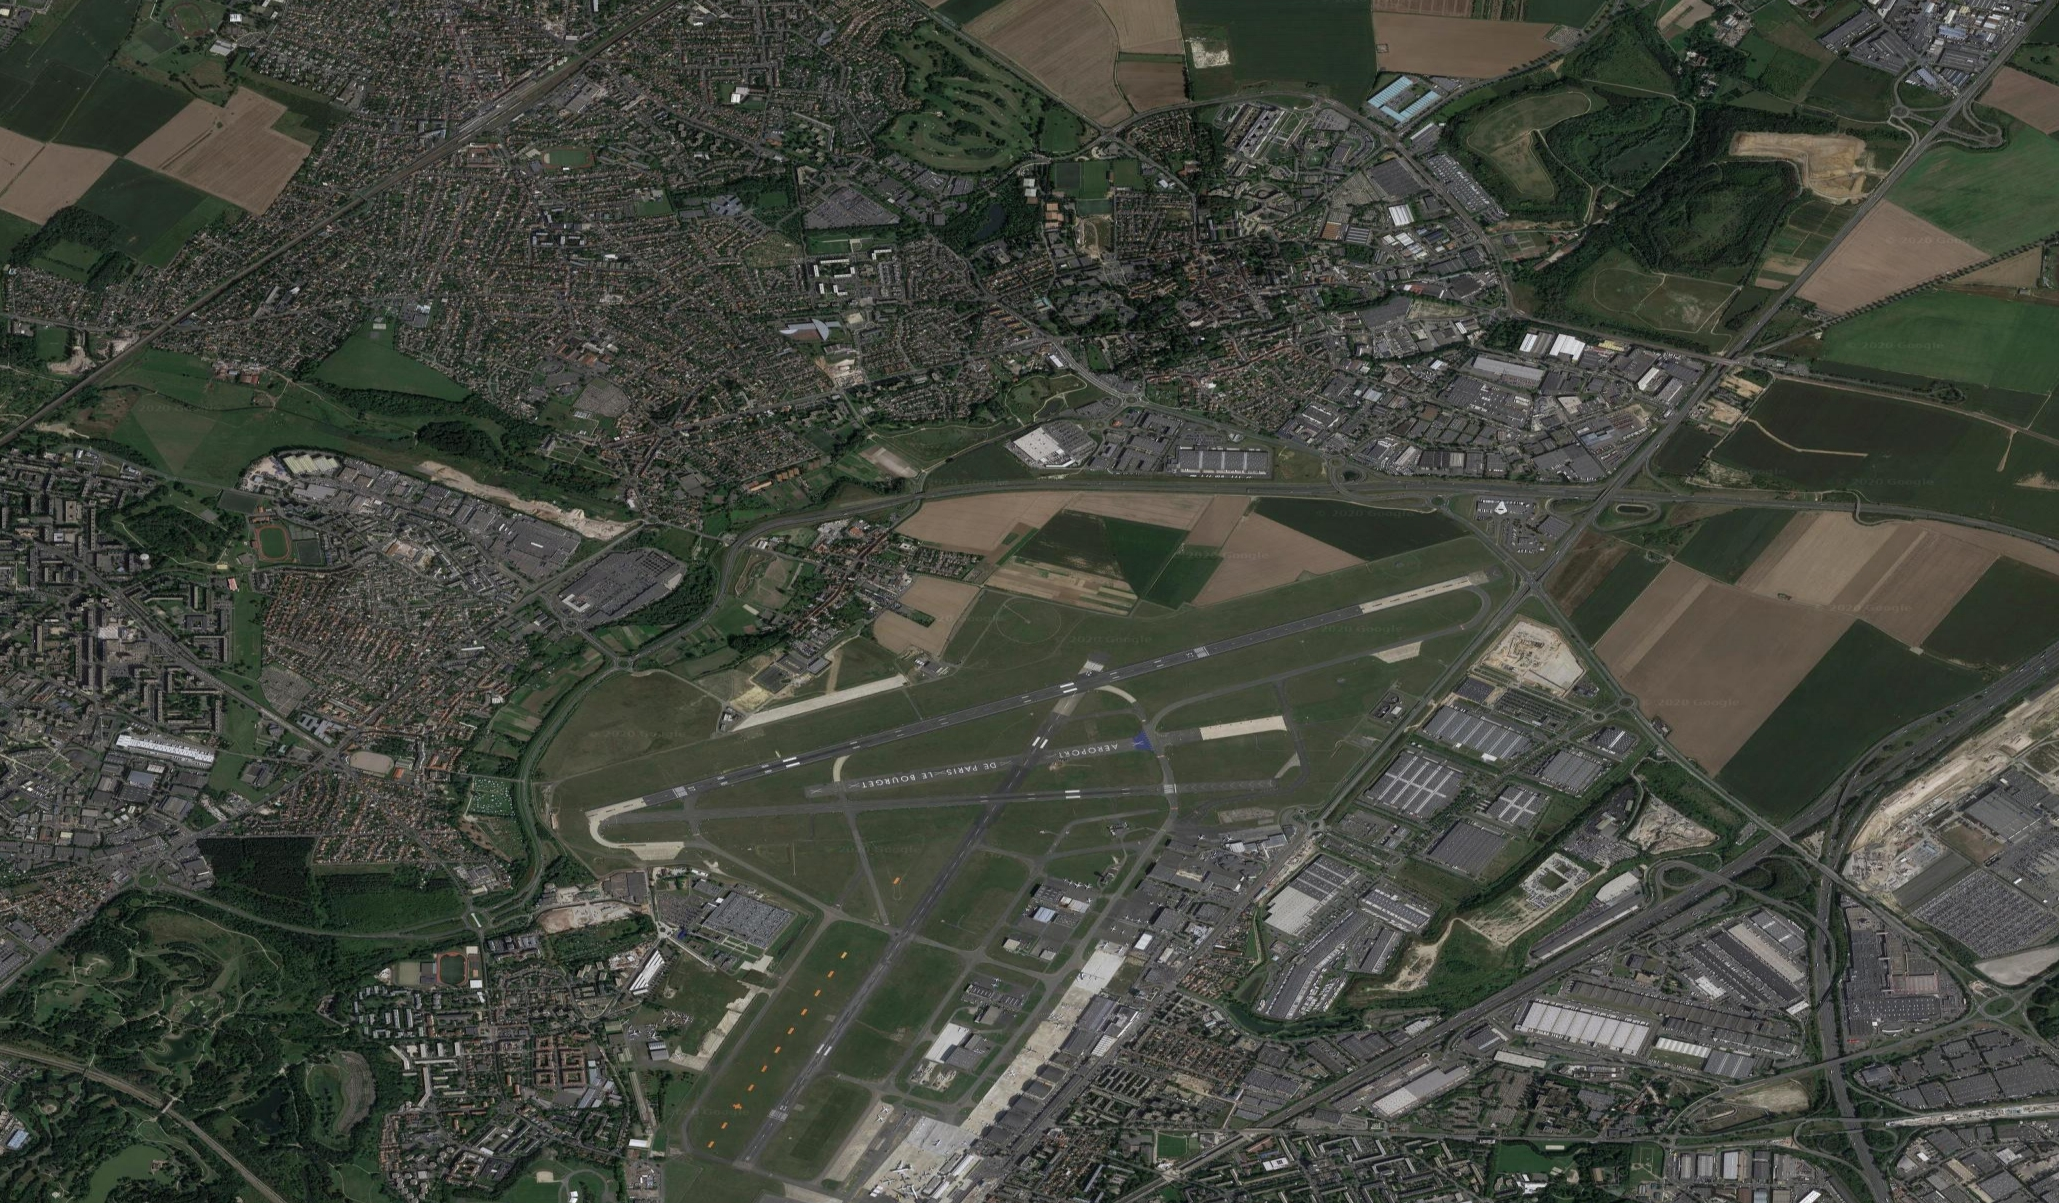airport: (576, 560, 1512, 1203)
motorway: (1105, 1066, 1379, 1203), (1554, 842, 1765, 974), (1768, 719, 1947, 851), (1372, 962, 1556, 1073), (1936, 644, 2059, 745), (1818, 1034, 1884, 1203), (1811, 851, 1838, 1035)
